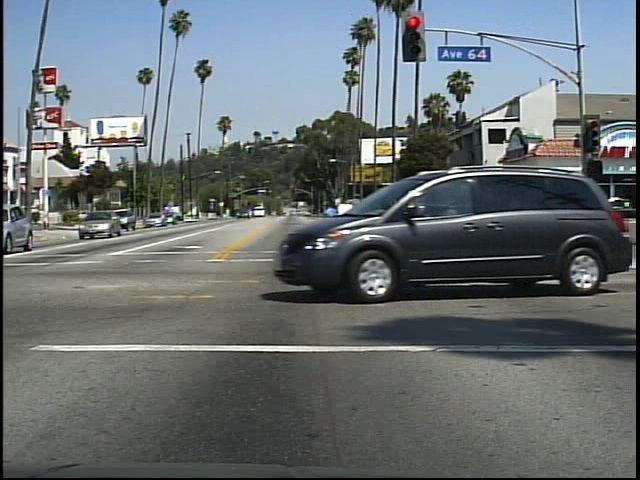person: (531, 194, 557, 247)
